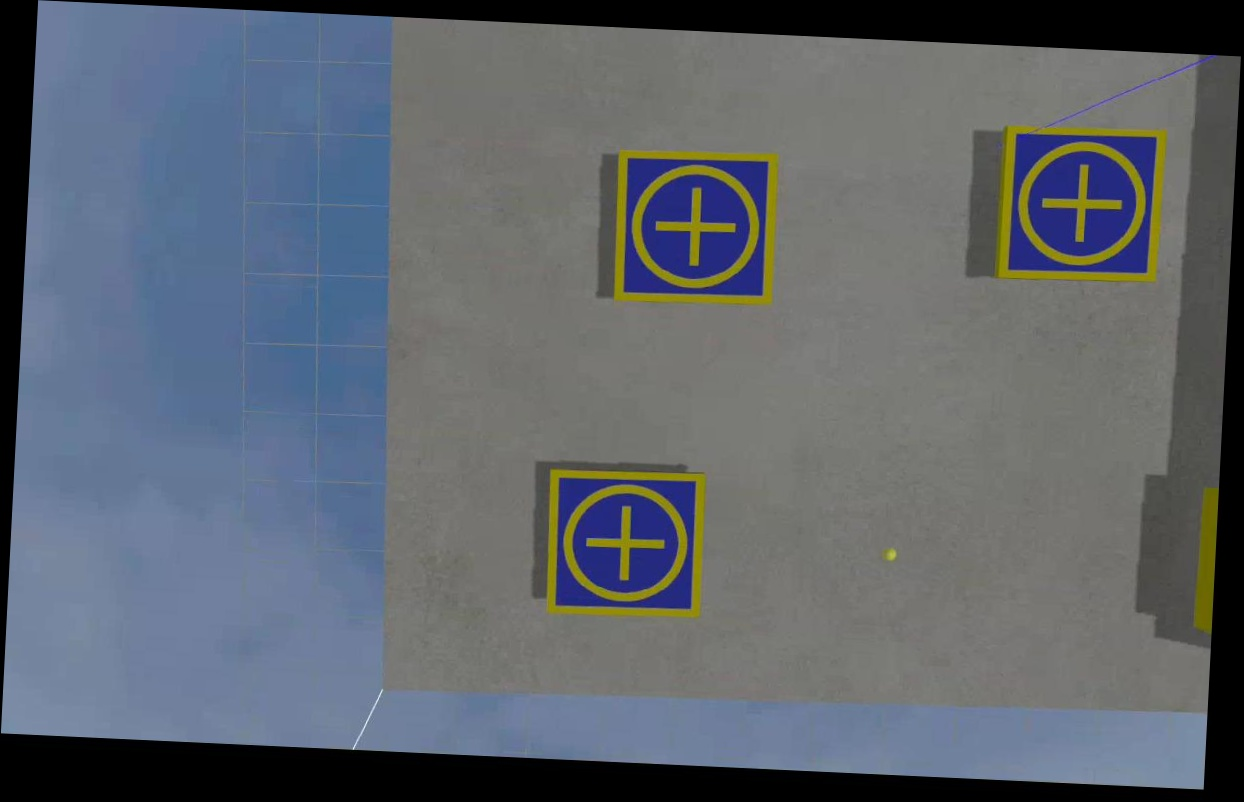small_base: (608, 145, 782, 312), (993, 120, 1167, 285), (543, 465, 708, 622)
